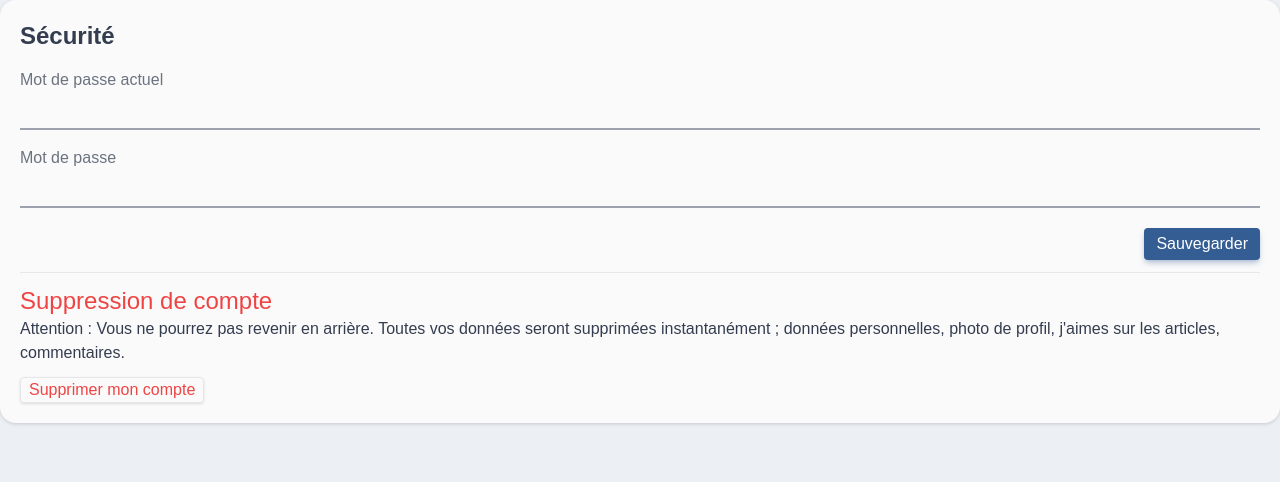
Test: Security View › should update the user password with errors
Expected: the password field labelled "Mot de passe" is shown, [20, 178, 1260, 208]
Expected: the button "Sauvegarder" is shown, [1144, 228, 1260, 260]
Type "current_password" into the password field labelled "Mot de passe actuel".
click(640, 115); type("current_password")  # box [20, 100, 1260, 130]
Click the button "Sauvegarder".
click(1202, 244)  # box [1144, 228, 1260, 260]
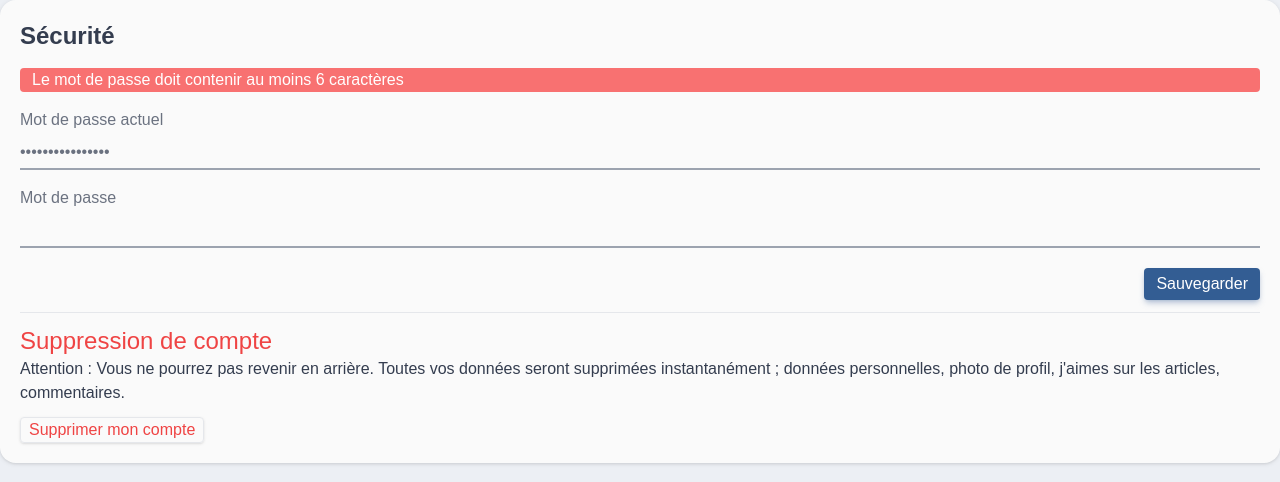
Expected: the text "Mot de passe" is shown, [20, 189, 1260, 238]
Type "new_password" into the password field labelled "Mot de passe".
click(640, 233); type("new_password")  # box [20, 218, 1260, 248]
Clear the password field labelled "Mot de passe actuel" at (640, 155), box [20, 140, 1260, 170]
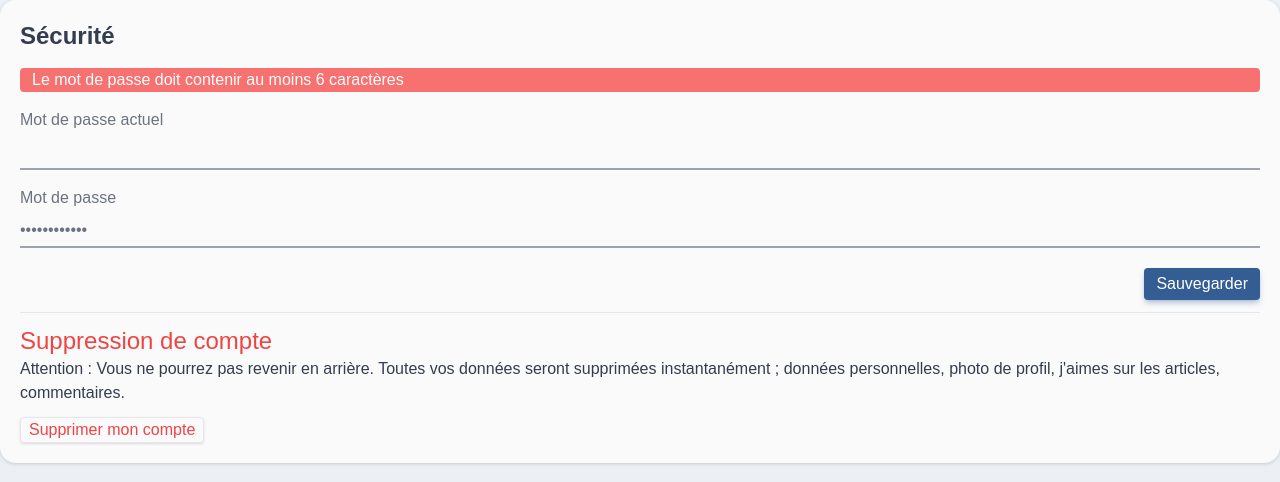
Click the button "Sauvegarder".
click(1202, 284)  # box [1144, 268, 1260, 300]
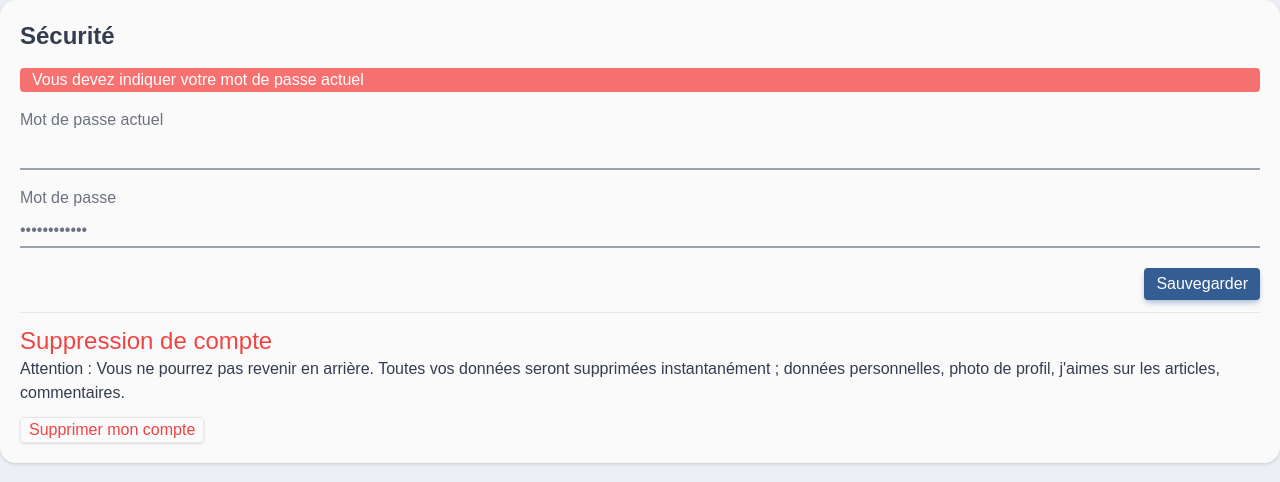
Type "current_password" into the password field labelled "Mot de passe actuel".
click(640, 155); type("current_password")  # box [20, 140, 1260, 170]
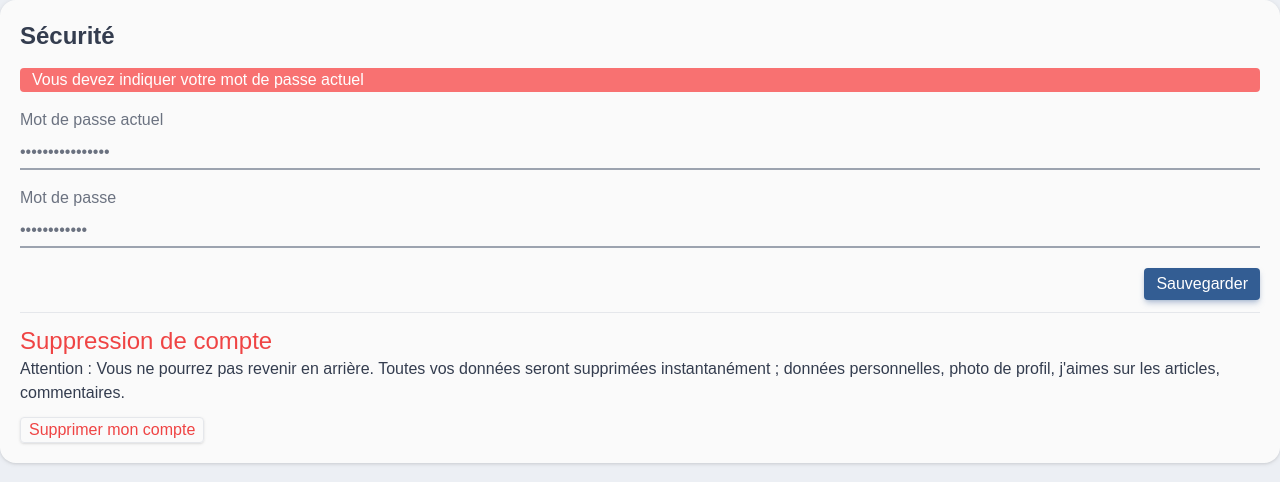
Click the button "Sauvegarder".
click(1202, 284)  # box [1144, 268, 1260, 300]
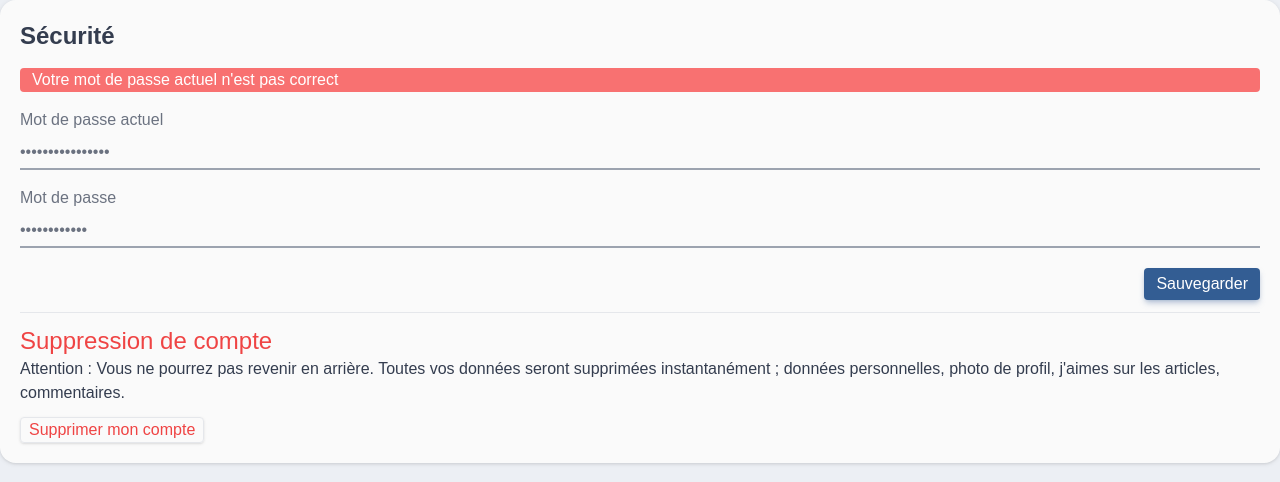
Now the text "Votre mot de passe actuel n'est pas correct" is shown, box [20, 68, 1260, 92]
Click the button "Sauvegarder".
click(1202, 284)  # box [1144, 268, 1260, 300]
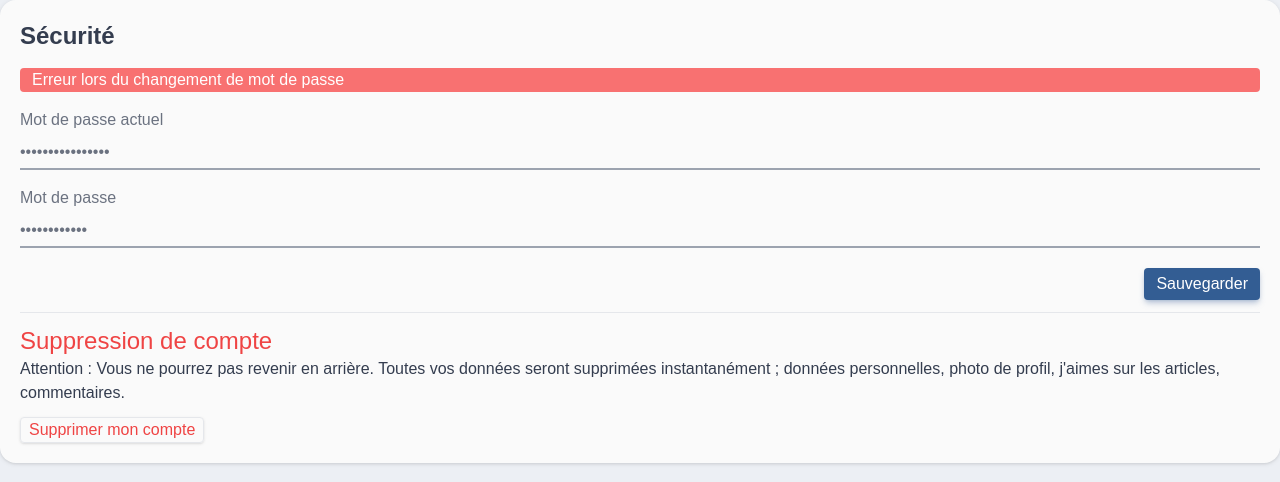
Now the text "Erreur lors du changement de mot de passe" is shown, box [20, 68, 1260, 92]
